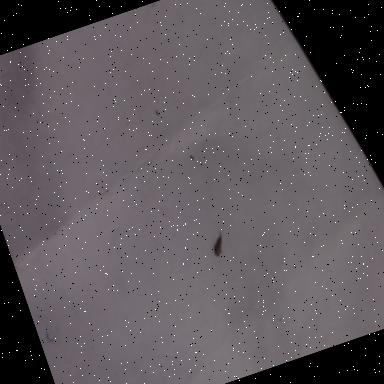pbw: (210, 230, 230, 257)
